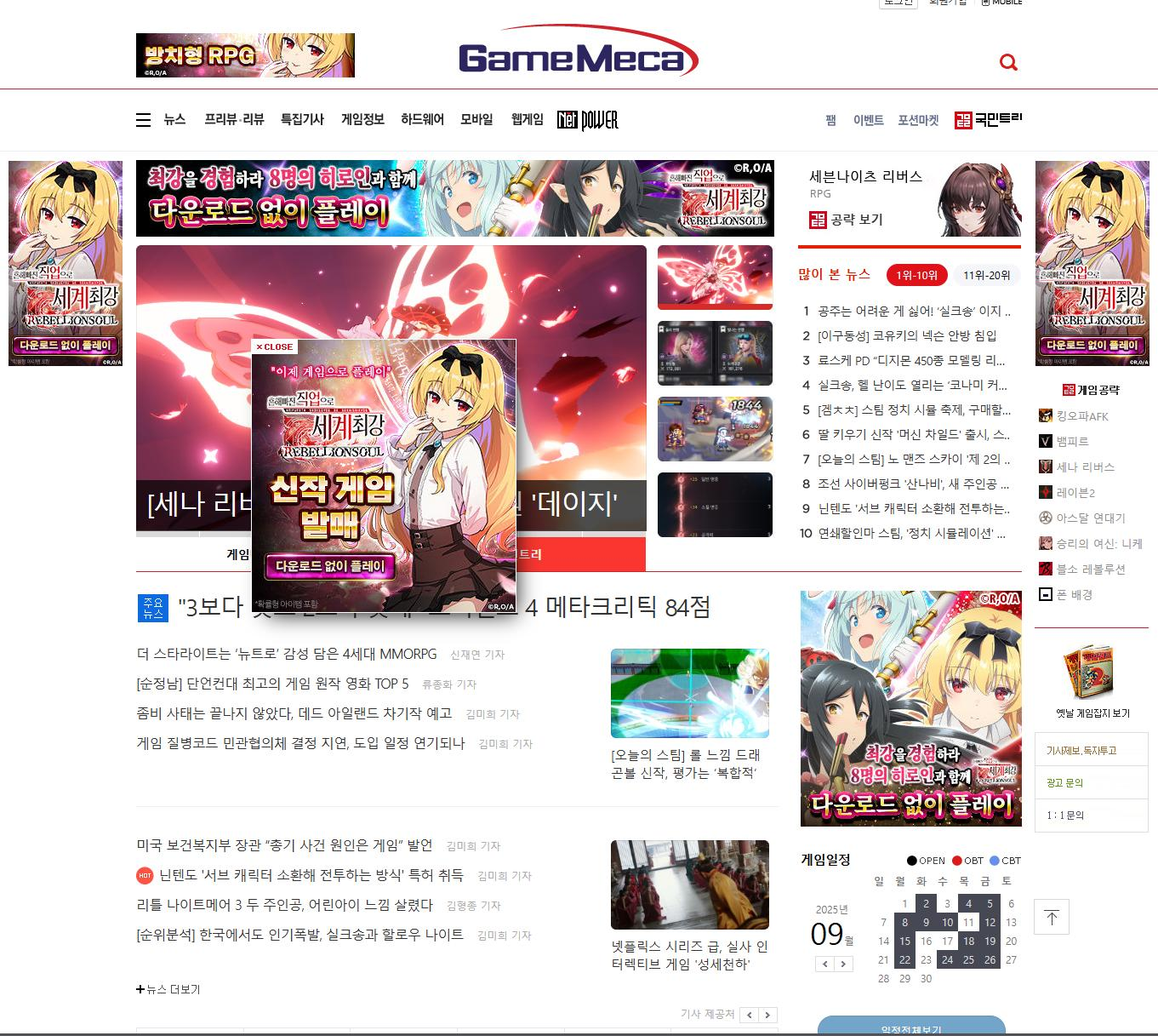button: (552, 106, 658, 143), (1032, 548, 1146, 580), (1051, 728, 1144, 765), (1041, 804, 1158, 833), (1038, 775, 1158, 803), (1034, 528, 1156, 555), (950, 98, 1042, 131), (1025, 477, 1119, 505), (1049, 504, 1139, 532), (1032, 400, 1113, 428), (203, 105, 272, 135), (150, 101, 201, 140), (1042, 457, 1126, 478), (892, 101, 947, 133), (350, 99, 396, 136), (284, 102, 333, 135), (400, 106, 451, 132), (1042, 433, 1093, 458), (855, 102, 889, 132), (462, 105, 493, 136), (499, 111, 545, 131), (1031, 904, 1065, 931), (820, 99, 847, 131), (998, 54, 1035, 74)
popup: (251, 338, 513, 617), (1032, 157, 1151, 363), (4, 160, 121, 362), (135, 33, 362, 79)
